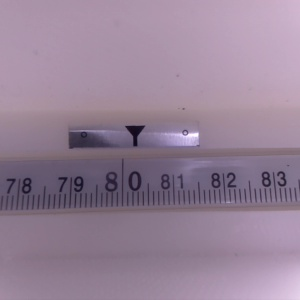0: (127, 171, 141, 191)
1: (177, 174, 183, 189)
2: (226, 172, 236, 188)
3: (276, 171, 286, 187)
7: (56, 177, 67, 193), (5, 178, 16, 193)
8: (105, 172, 117, 192), (21, 178, 32, 194), (210, 172, 220, 188), (260, 171, 270, 187), (160, 173, 169, 190)
9: (73, 177, 83, 193)
finger: (123, 125, 147, 149)
